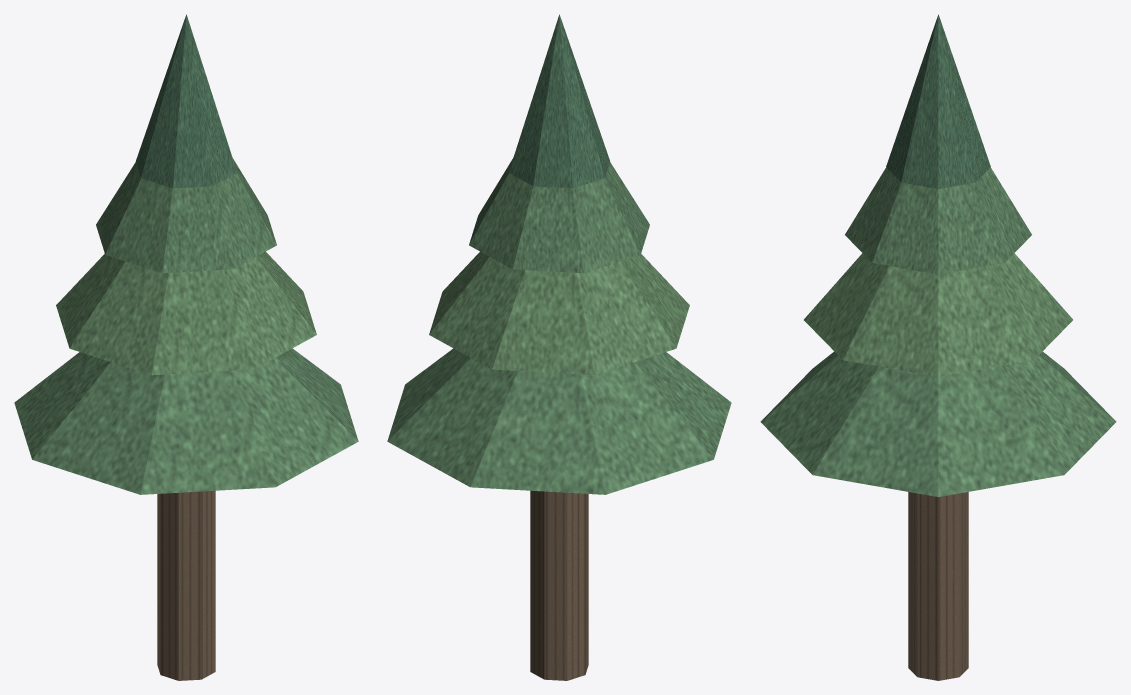
Rendered from tree_conifer.glb.
3 views of the same model, side by side, from view 1: azimuth 30°, elevation 25°; view 2: azimuth 150°, elevation 25°; view 3: azimuth 270°, elevation 25° (orthographic).
Visible parts, largest first — view 1: conifer_315, conifer_316, conifer_317, tree_trunk-col_314, conifer_318; view 2: conifer_315, conifer_316, conifer_317, tree_trunk-col_314, conifer_318; view 3: conifer_315, conifer_316, conifer_317, tree_trunk-col_314, conifer_318.
Boxes of the visible parts, bbox=[...] form: conifer_315: bbox=[14, 348, 358, 494]; conifer_316: bbox=[56, 251, 316, 375]; conifer_317: bbox=[96, 158, 276, 273]; tree_trunk-col_314: bbox=[157, 490, 215, 680]; conifer_318: bbox=[135, 14, 236, 188]; conifer_315: bbox=[387, 348, 731, 494]; conifer_316: bbox=[429, 251, 689, 375]; conifer_317: bbox=[469, 158, 649, 273]; tree_trunk-col_314: bbox=[530, 490, 588, 680]; conifer_318: bbox=[509, 14, 610, 188]; conifer_315: bbox=[760, 351, 1116, 496]; conifer_316: bbox=[804, 253, 1072, 376]; conifer_317: bbox=[845, 167, 1031, 274]; tree_trunk-col_314: bbox=[908, 492, 968, 680]; conifer_318: bbox=[886, 14, 990, 188].
Size of the model in its own units: 1.9 by 3.85 by 1.9.
4 materials, 4 textured.
